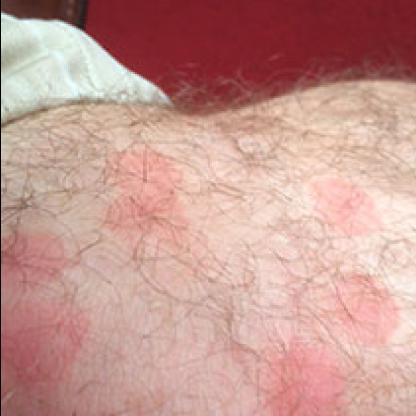Bed Bug: (95, 142, 187, 250), (1, 303, 87, 415), (248, 353, 353, 415), (328, 264, 400, 348), (304, 174, 380, 244), (1, 225, 67, 302)
